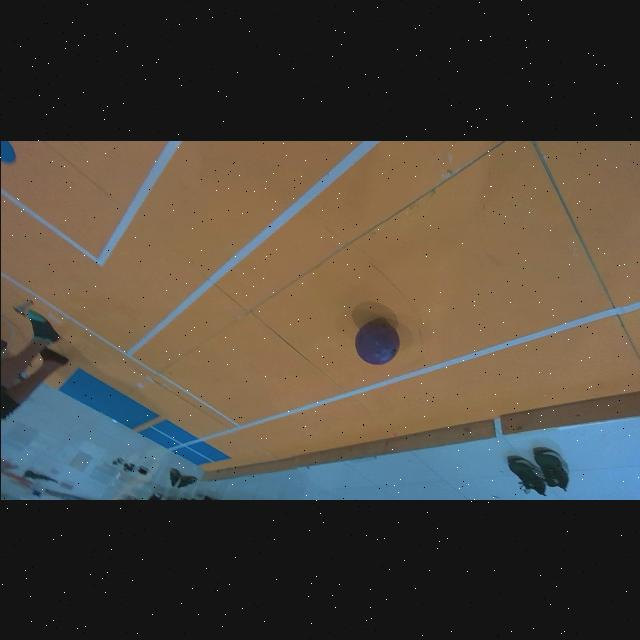P: (353, 318, 399, 365)
